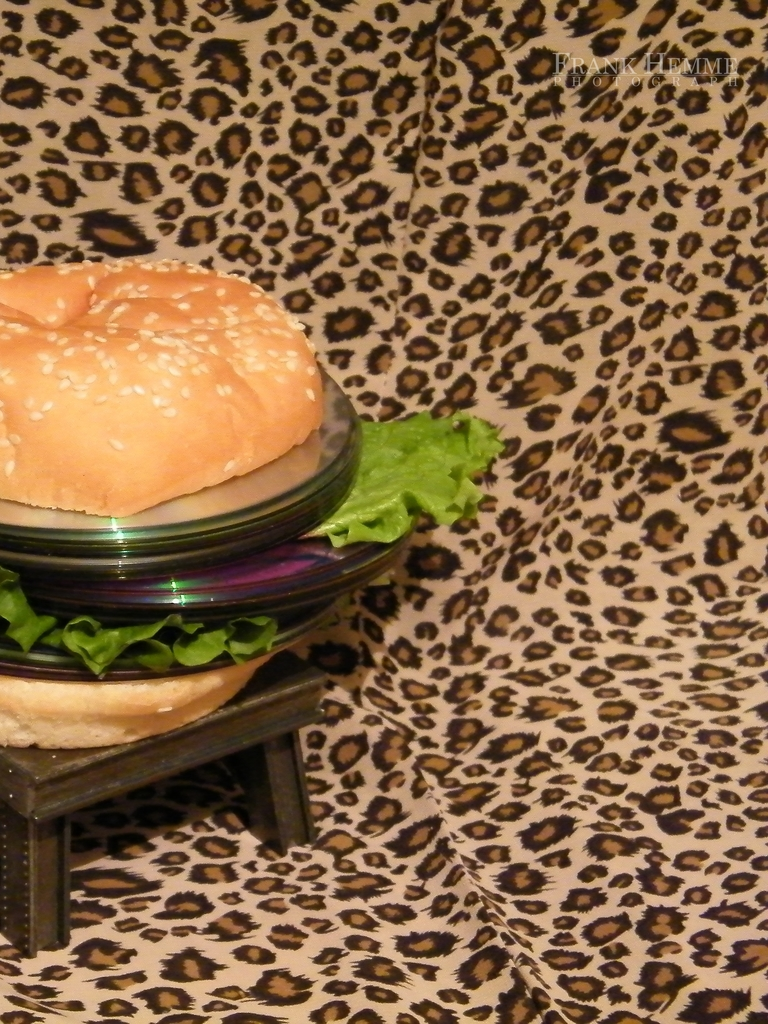Hamburger: (0, 263, 498, 749)
